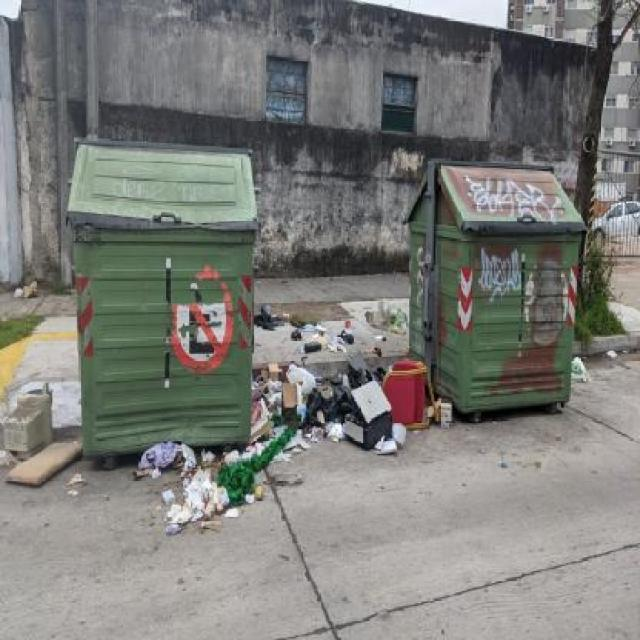garbage: (245, 293, 445, 486), (134, 429, 278, 544), (5, 385, 80, 490), (571, 336, 592, 402)
